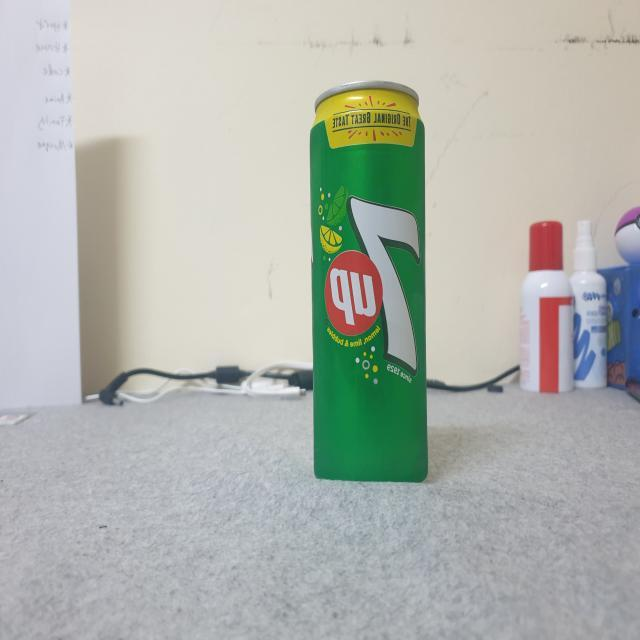can: (301, 64, 433, 512)
